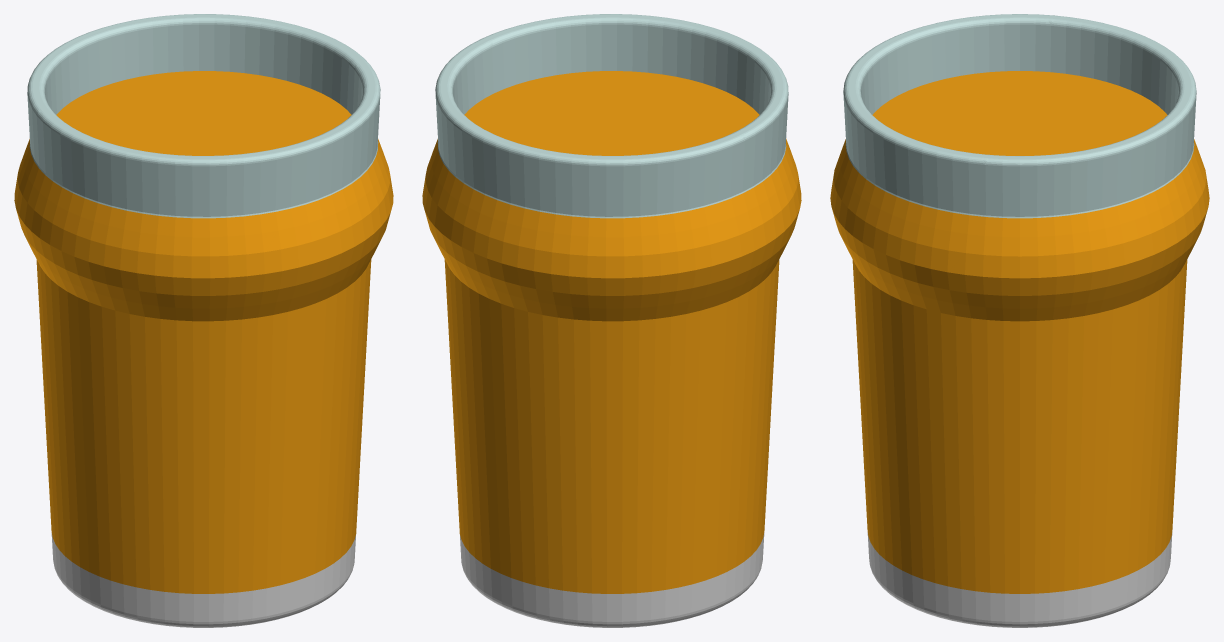
Rendered from beer_glass.glb.
The picture shows the model from 3 angles, left to right: view 1: azimuth 30°, elevation 25°; view 2: azimuth 150°, elevation 25°; view 3: azimuth 270°, elevation 25°; orthographic projection.
Visible parts, largest first — view 1: verre1, verre2, bière, verre3; view 2: verre1, verre2, bière, verre3; view 3: verre1, verre2, bière, verre3.
Part boxes in pixels (x1,y1,x2,y2): verre1: (14, 138, 393, 593); verre2: (27, 14, 380, 218); bière: (56, 71, 351, 155); verre3: (51, 533, 355, 627); verre1: (422, 138, 801, 593); verre2: (435, 14, 788, 218); bière: (464, 71, 759, 155); verre3: (460, 533, 764, 627); verre1: (830, 139, 1209, 593); verre2: (843, 14, 1196, 218); bière: (872, 71, 1167, 155); verre3: (867, 533, 1172, 627).
Size of the model in its own units: 2.14 by 3 by 2.14.
